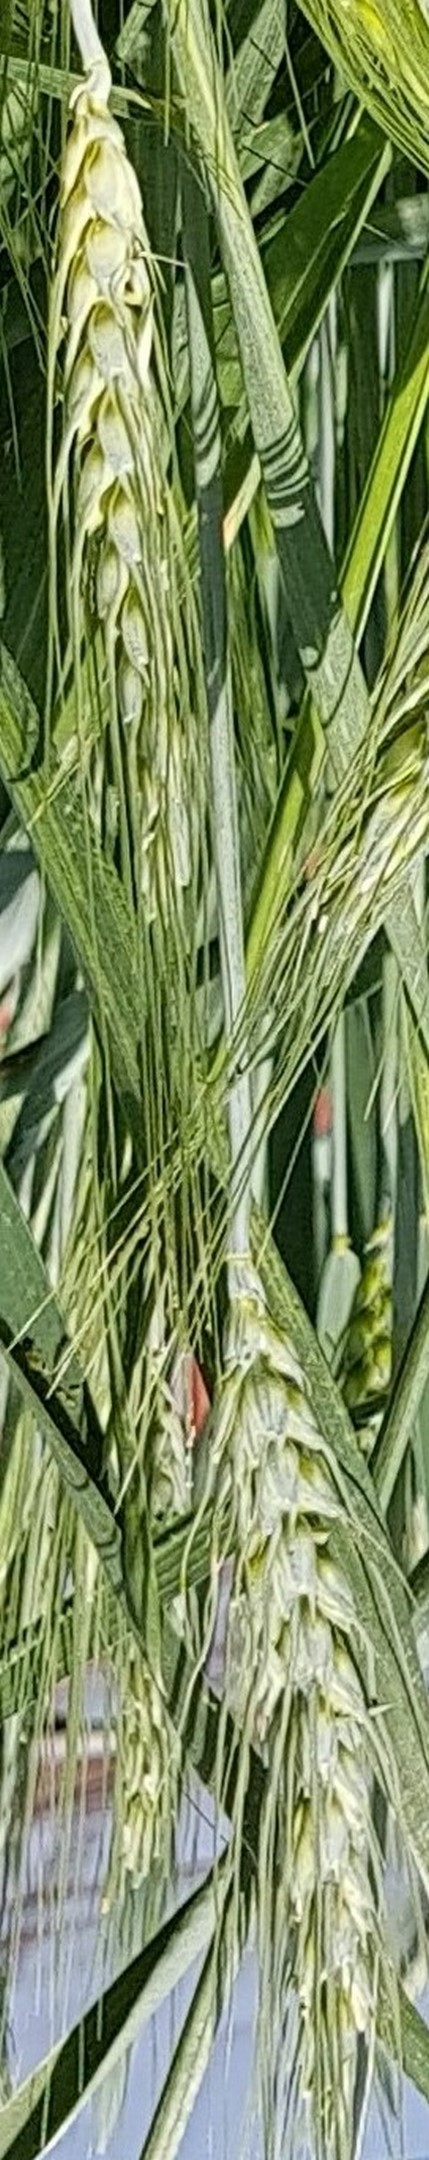Healthy Wheat: (201, 1298, 410, 2031), (12, 91, 222, 701)
